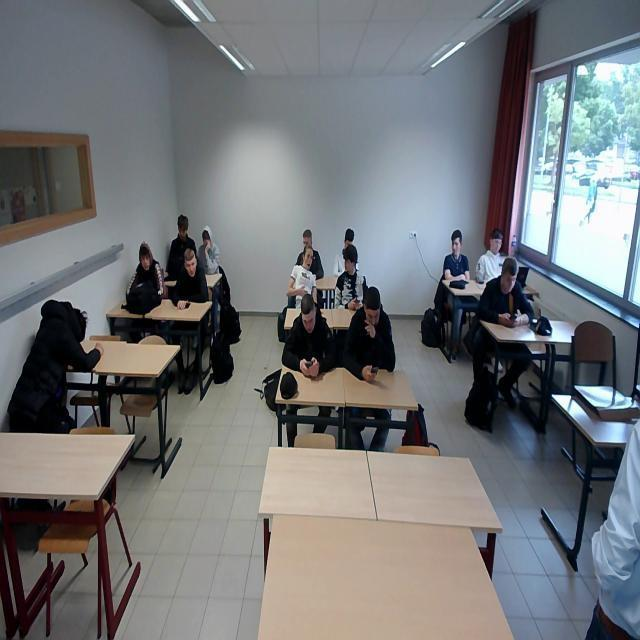daydreaming: (7, 299, 99, 431)
phone_use: (342, 286, 394, 380), (281, 293, 334, 376), (476, 256, 532, 325), (333, 244, 365, 308), (165, 214, 194, 278)
